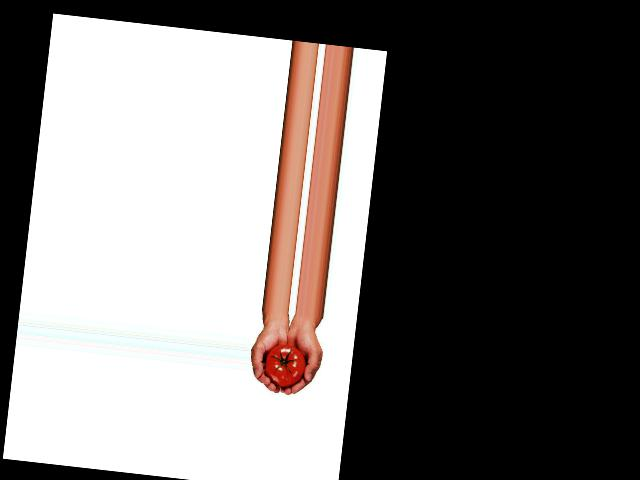tomato: (263, 343, 308, 388)
